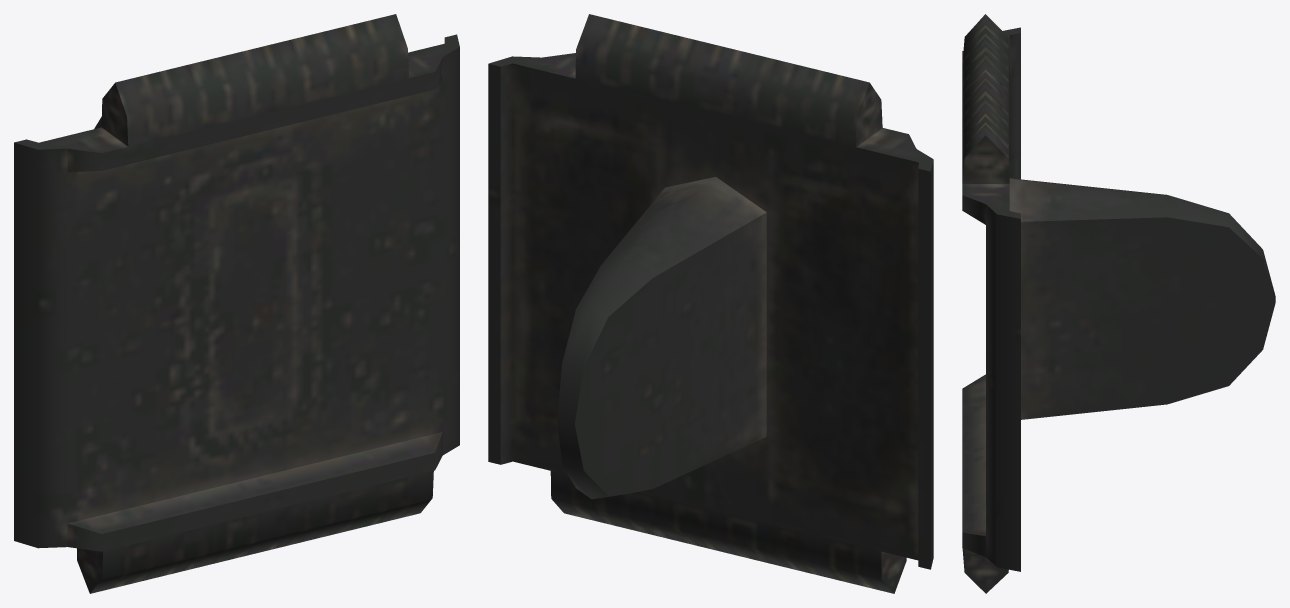
The picture shows the model from 3 angles, left to right: view 1: azimuth 30°, elevation 25°; view 2: azimuth 150°, elevation 25°; view 3: azimuth 270°, elevation 25°; orthographic projection. The views are drawn at different scales.
Parts seen in each view (by area): view 1: set_0_group_0; view 2: set_0_group_0; view 3: set_0_group_0.
Boxes of the visible parts, left/top/right/bottom form: set_0_group_0: left=14, top=14, right=459, bottom=593; set_0_group_0: left=488, top=14, right=933, bottom=593; set_0_group_0: left=962, top=14, right=1275, bottom=593.
Size of the model in its own units: 0.2599 by 0.2834 by 0.1795.
Materials: 1 (1 with a texture image).
